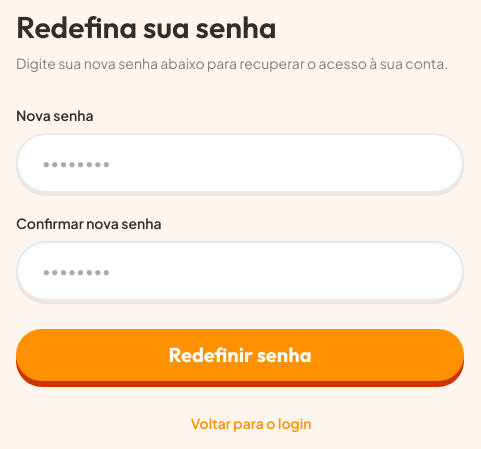
Test: ResetPasswordForm › should show success state with login button when action succeeds
Type "NewPassword1" into the password field labelled "Nova senha". click: (224, 163)
box: top-left (42, 151), bottom-right (406, 175)
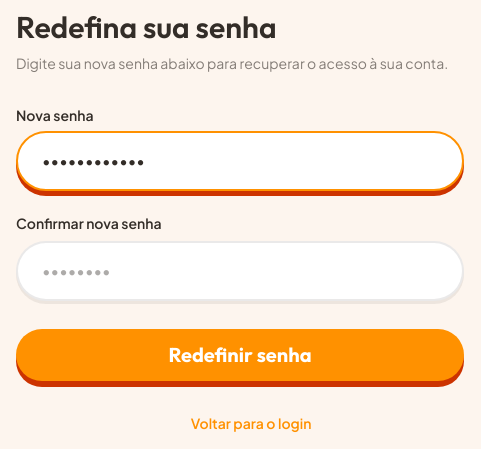
Type "NewPassword1" into the password field labelled "Confirmar nova senha". click: (224, 271)
box: top-left (42, 259), bottom-right (406, 283)
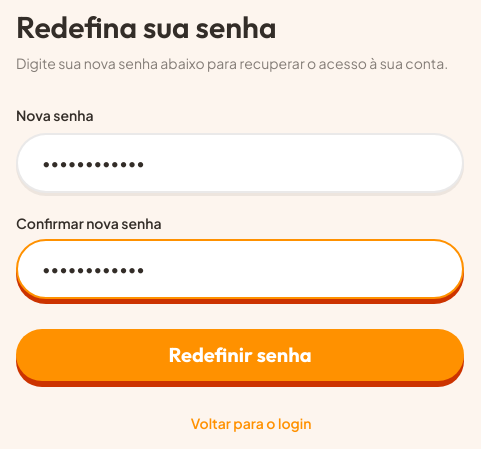
Click the button "Redefinir senha". click: (240, 355)
box: top-left (16, 329), bottom-right (464, 381)
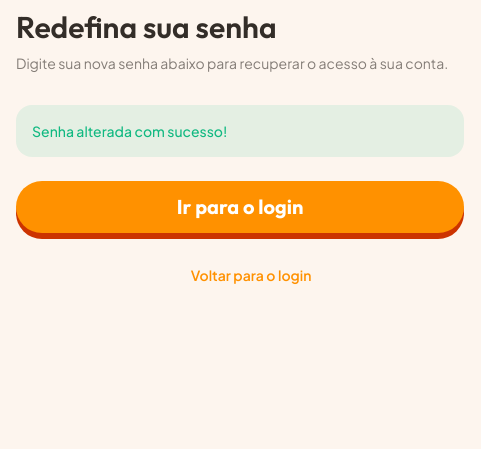
Result: the text "Senha alterada com sucesso!" is shown at top-left (16, 105), bottom-right (464, 157)
Result: the link "Ir para o login" is shown at top-left (16, 181), bottom-right (464, 233)
